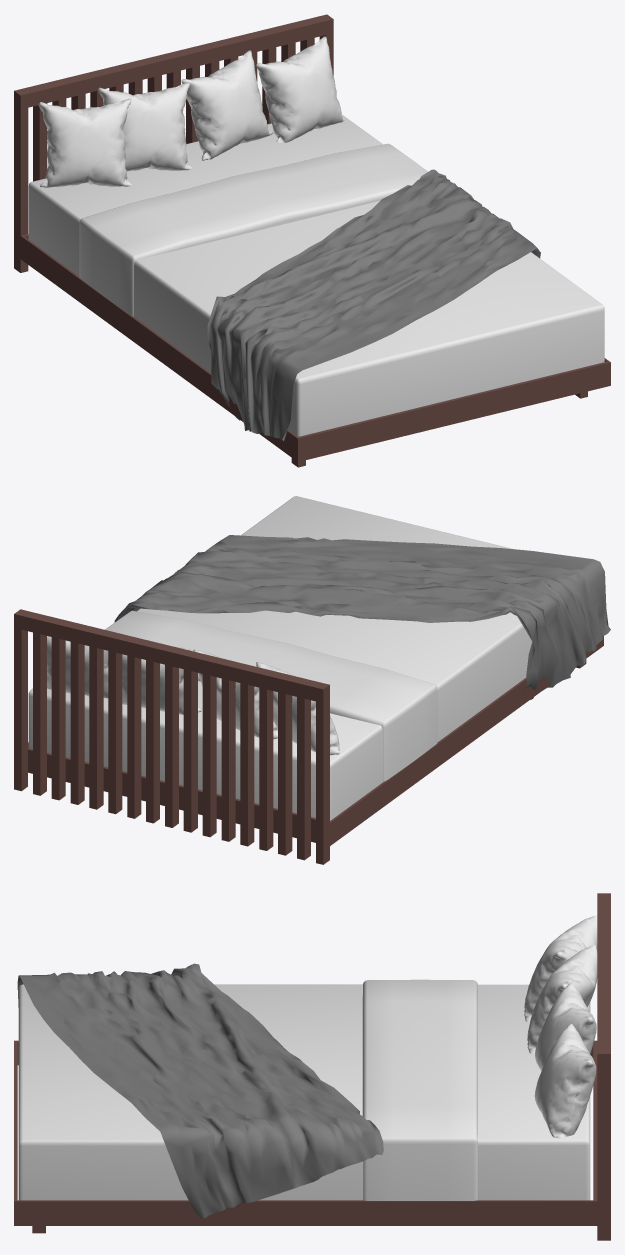
File: Bed.fbx
The picture shows the model from 3 angles, top to bottom: view 1: azimuth 30°, elevation 25°; view 2: azimuth 150°, elevation 25°; view 3: azimuth 270°, elevation 25°; orthographic projection. The views are drawn at different scales.
Visible parts, largest first — view 1: BedSheets, BedCover, BedFrame, BedCushion04, BedCushion02, BedCushion01, BedCushion03; view 2: BedFrame, BedSheets, BedCover, BedCushion01, BedCushion04, BedCushion02, BedCushion03; view 3: BedSheets, BedCover, BedFrame, BedCushion01, BedCushion03, BedCushion02, BedCushion04.
Part boxes in pixels (box(x1,y1,x2,y2)): BedSheets: box(28, 114, 604, 436); BedCover: box(207, 169, 540, 441); BedFrame: box(14, 14, 610, 467); BedCushion04: box(38, 98, 132, 187); BedCushion02: box(181, 50, 273, 160); BedCushion01: box(256, 36, 344, 142); BedCushion03: box(98, 82, 192, 171); BedFrame: box(14, 609, 603, 864); BedSheets: box(28, 496, 532, 820); BedCover: box(114, 535, 610, 699); BedCushion01: box(47, 636, 108, 698); BedCushion04: box(256, 662, 339, 755); BedCushion02: box(122, 647, 201, 714); BedCushion03: box(193, 649, 277, 739); BedSheets: box(18, 979, 590, 1200); BedCover: box(17, 963, 383, 1218); BedFrame: box(14, 893, 610, 1240); BedCushion01: box(534, 1023, 596, 1138); BedCushion03: box(527, 945, 597, 1053); BedCushion02: box(535, 982, 596, 1070); BedCushion04: box(524, 915, 597, 1022).
Bounding box in the file's own units: 1.52 × 0.76 × 2.2.
